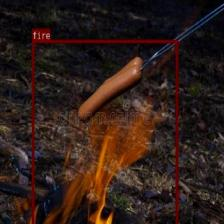fire: (32, 39, 178, 224)
